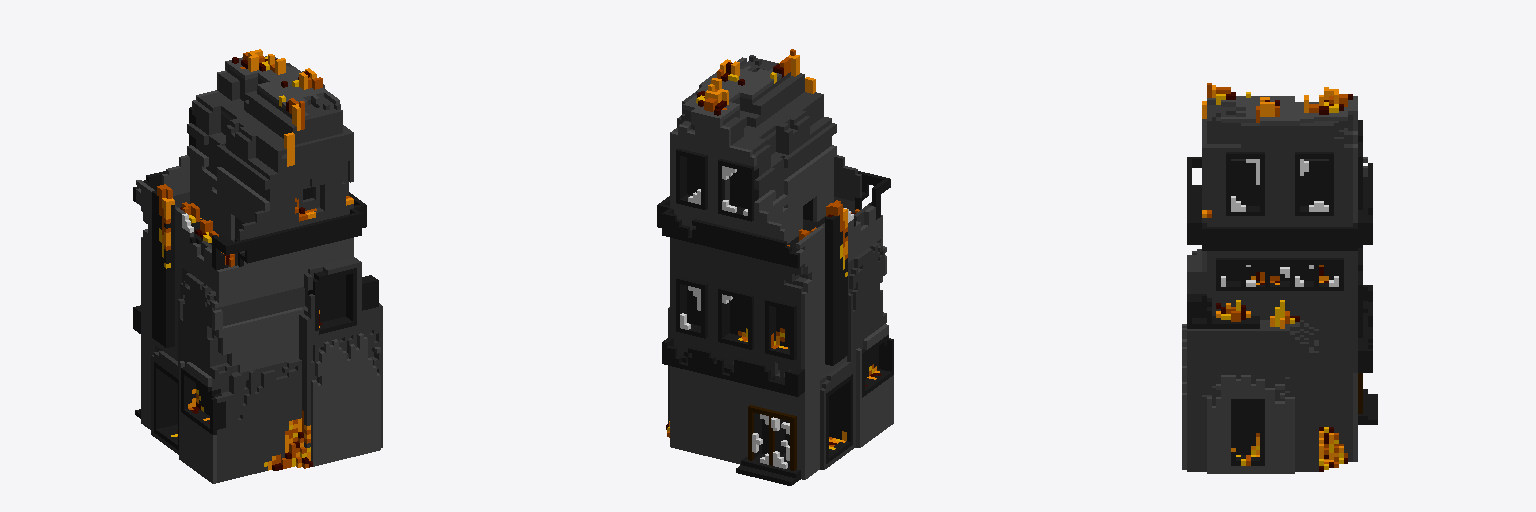
3 renders of one model, left to right at view 1: azimuth 30°, elevation 25°; view 2: azimuth 150°, elevation 25°; view 3: azimuth 270°, elevation 25°, orthographic.
Parts seen in each view (by area): view 1: object 1; view 2: object 1; view 3: object 1.
Part boxes in pixels (x1,y1,x2,y2): object 1: (133,49,382,483); object 1: (657,49,893,485); object 1: (1182,83,1377,473).
Bounding box in the file's own units: 4 × 8 × 4.
1 materials, 1 textured.